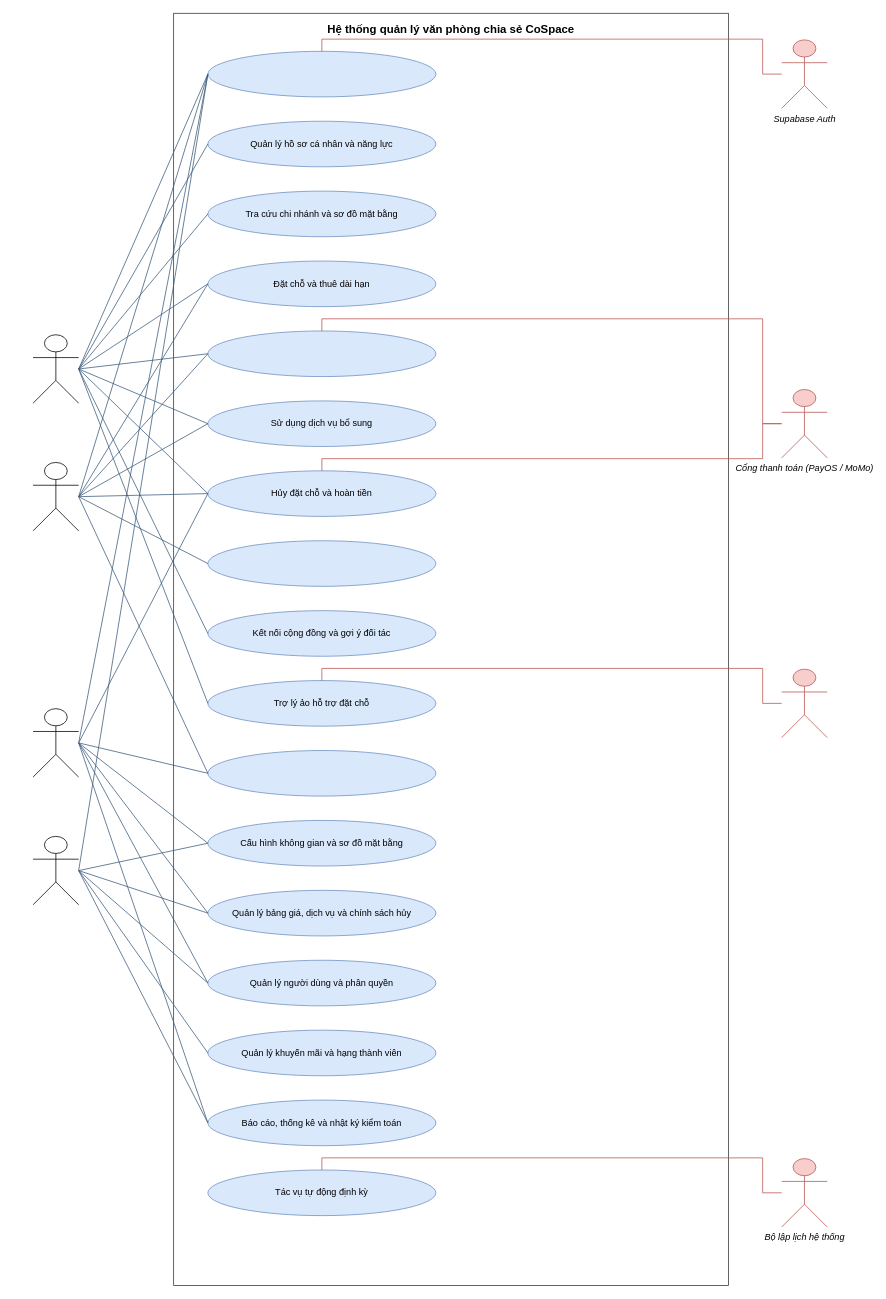
The diagram is 886 pixels wide and 1299 high, and some of its shapes have lost their labels. The shapes that lost their labels are listed below. From the top down, each one's box as (x1, y1, x2, y2) in pixels, then its label:
(207, 51, 436, 97): Đăng ký và đăng nhập hệ thống
(32, 334, 79, 403): Khách hàng
(207, 330, 436, 377): Thanh toán đơn đặt chỗ
(32, 462, 79, 531): Nhân viên
(207, 540, 436, 586): Check-in và check-out tại quầy
(781, 668, 827, 738): Google Gemini
(32, 708, 79, 777): Quản lý chi nhánh
(207, 750, 436, 796): Quản lý bảo trì không gian
(32, 836, 79, 905): Quản trị hệ thống
